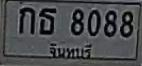0: (87, 9, 101, 36)
8: (103, 9, 118, 37), (70, 8, 84, 36), (120, 10, 133, 37)
A01: (19, 6, 35, 35)
A24: (38, 7, 57, 35)
CTI: (47, 40, 94, 61)
